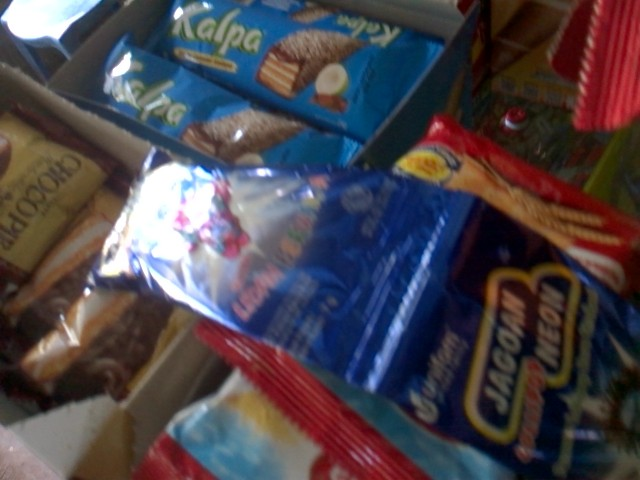jagoan neon: (343, 187, 640, 478)
